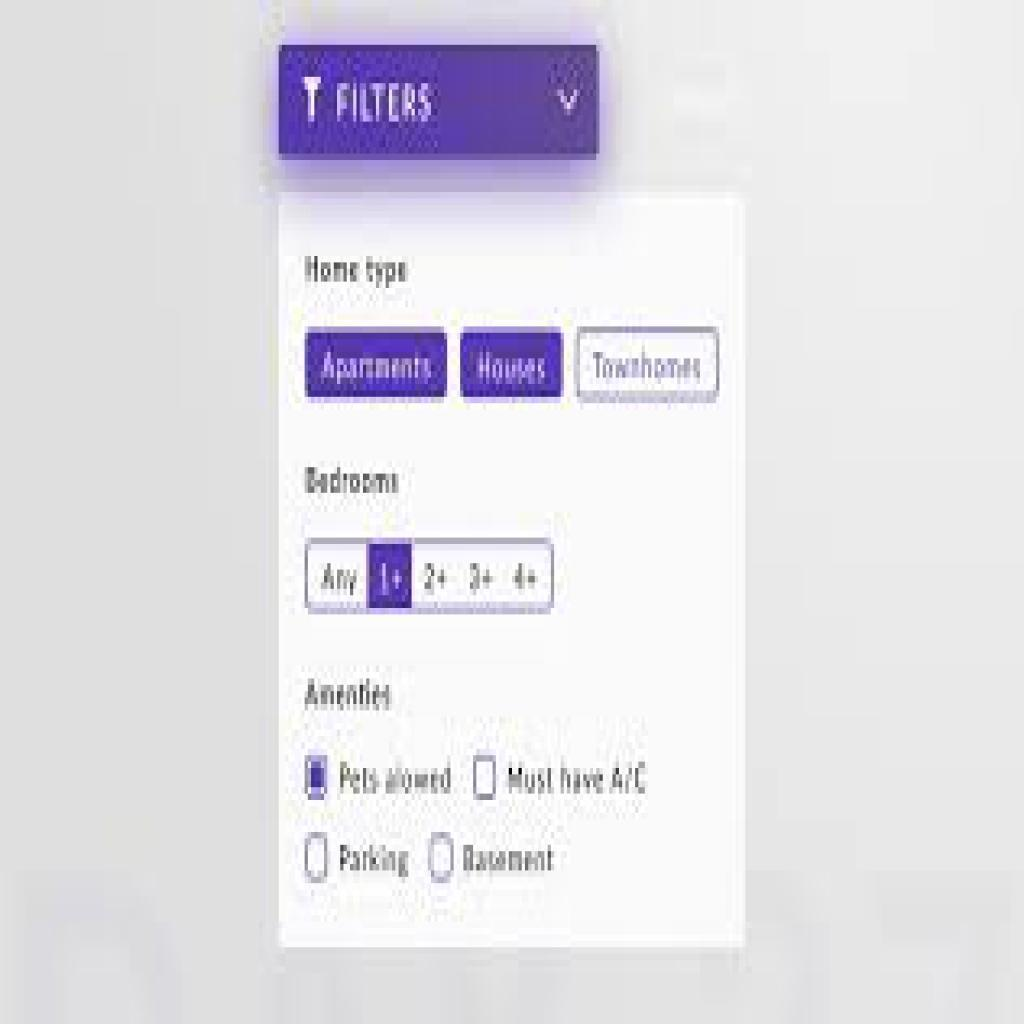button: (580, 326, 718, 400), (307, 329, 447, 396), (462, 329, 562, 404)
checkbox: (427, 831, 458, 884), (305, 833, 329, 885), (473, 753, 497, 802), (306, 755, 327, 799)
dropdown: (276, 44, 604, 160)
